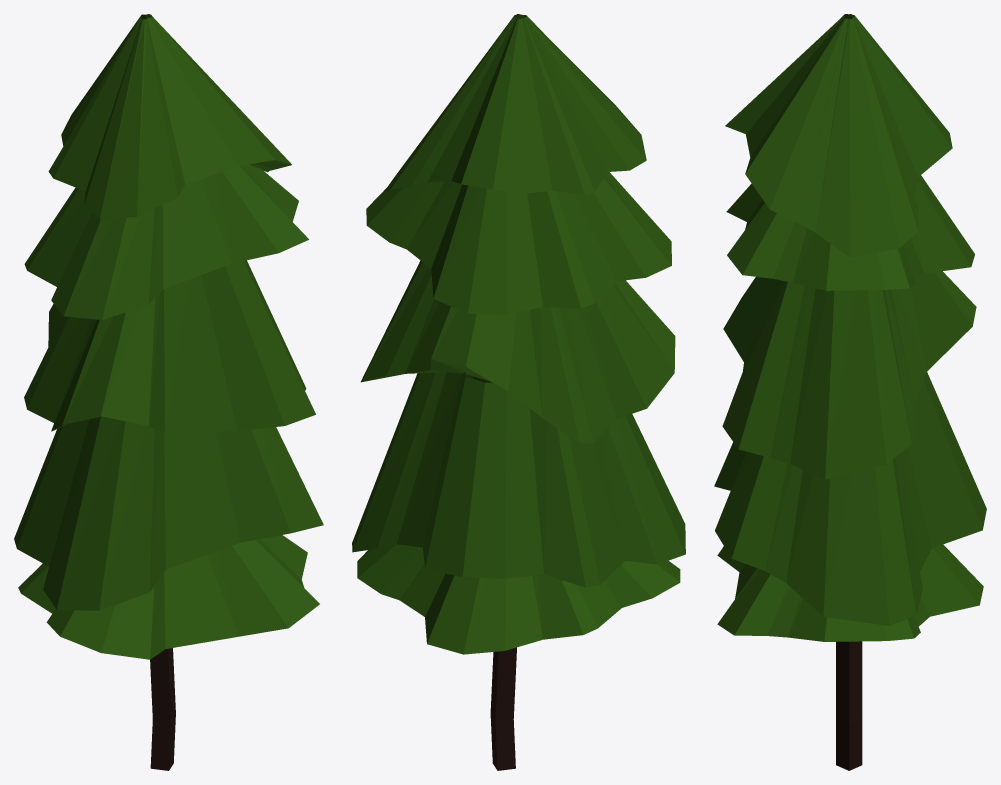
File: SM_tree_conifer_01.FBX
3 views of the same model, side by side, from view 1: azimuth 30°, elevation 25°; view 2: azimuth 150°, elevation 25°; view 3: azimuth 270°, elevation 25° (orthographic).
Visible parts, largest first — view 1: Object043; view 2: Object043; view 3: Object043.
Part boxes in pixels (x1,y1,x2,y2): Object043: [14, 14, 323, 770]; Object043: [352, 14, 685, 770]; Object043: [714, 14, 986, 770].
Bounding box in the file's own units: 419 × 1075 × 358.
